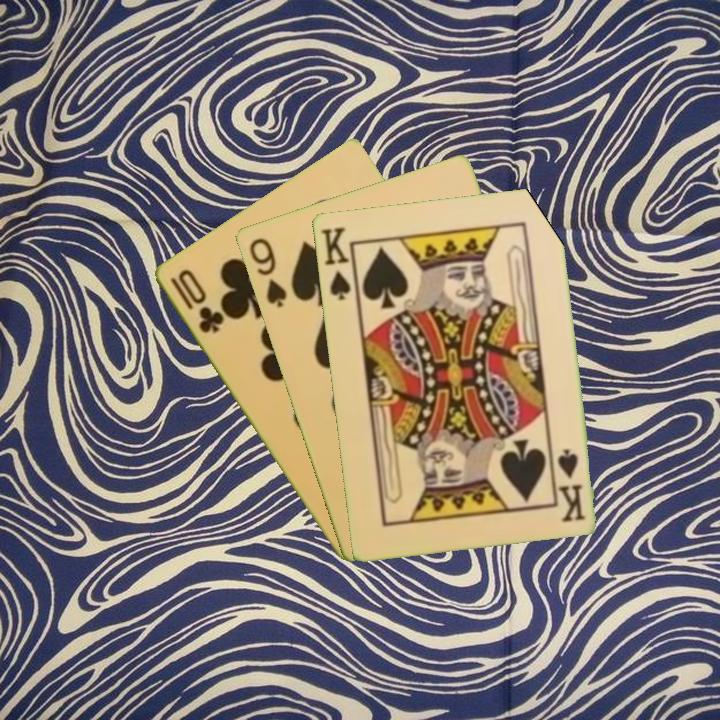10c: (166, 265, 226, 336)
9s: (245, 234, 290, 310)
Ks: (316, 223, 359, 303), (553, 445, 588, 525)
